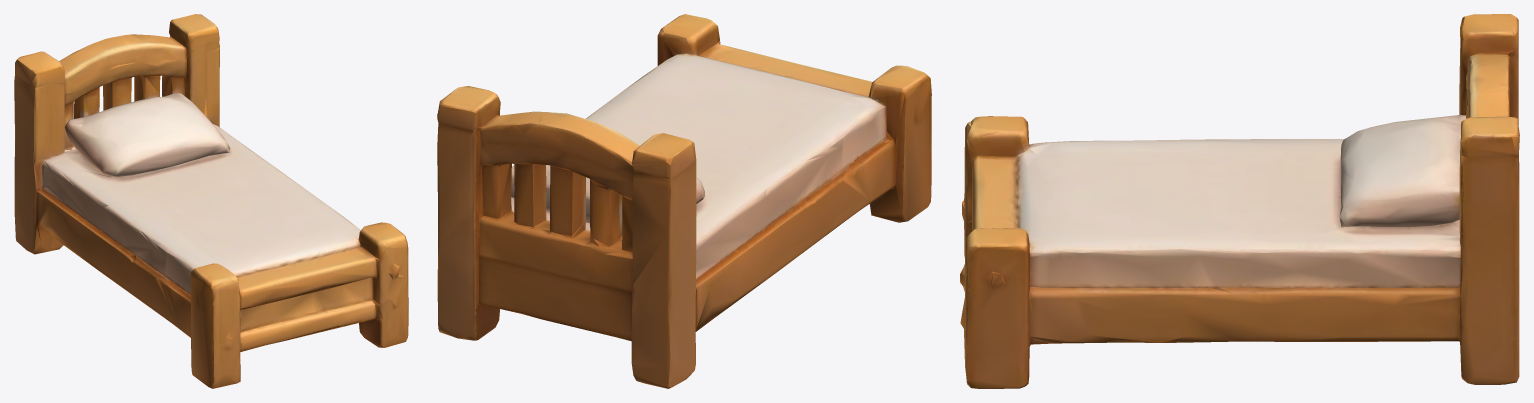
The model's file is bed09.glb.
3 views of the same model, side by side, from view 1: azimuth 30°, elevation 25°; view 2: azimuth 150°, elevation 25°; view 3: azimuth 270°, elevation 25° (orthographic). The views are drawn at different scales.
Bounding box in the file's own units: 0.1693 × 0.149 × 0.3017.
1 material, 1 textured.
